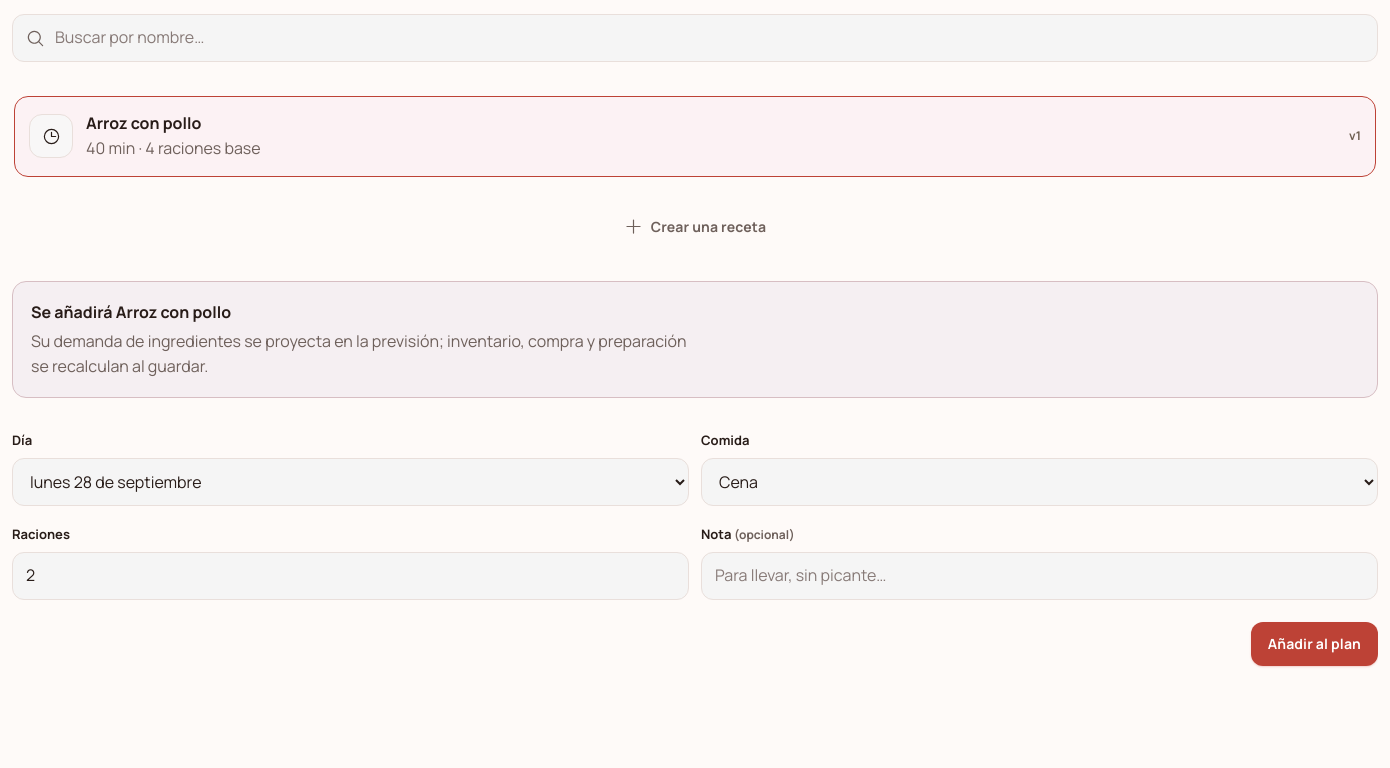
Test case: meal planning accessibility › keeps the inline recipe and ingredient creators labelled
Click the button "Crear una receta".
click(695, 227)  # box [12,204,1378,249]
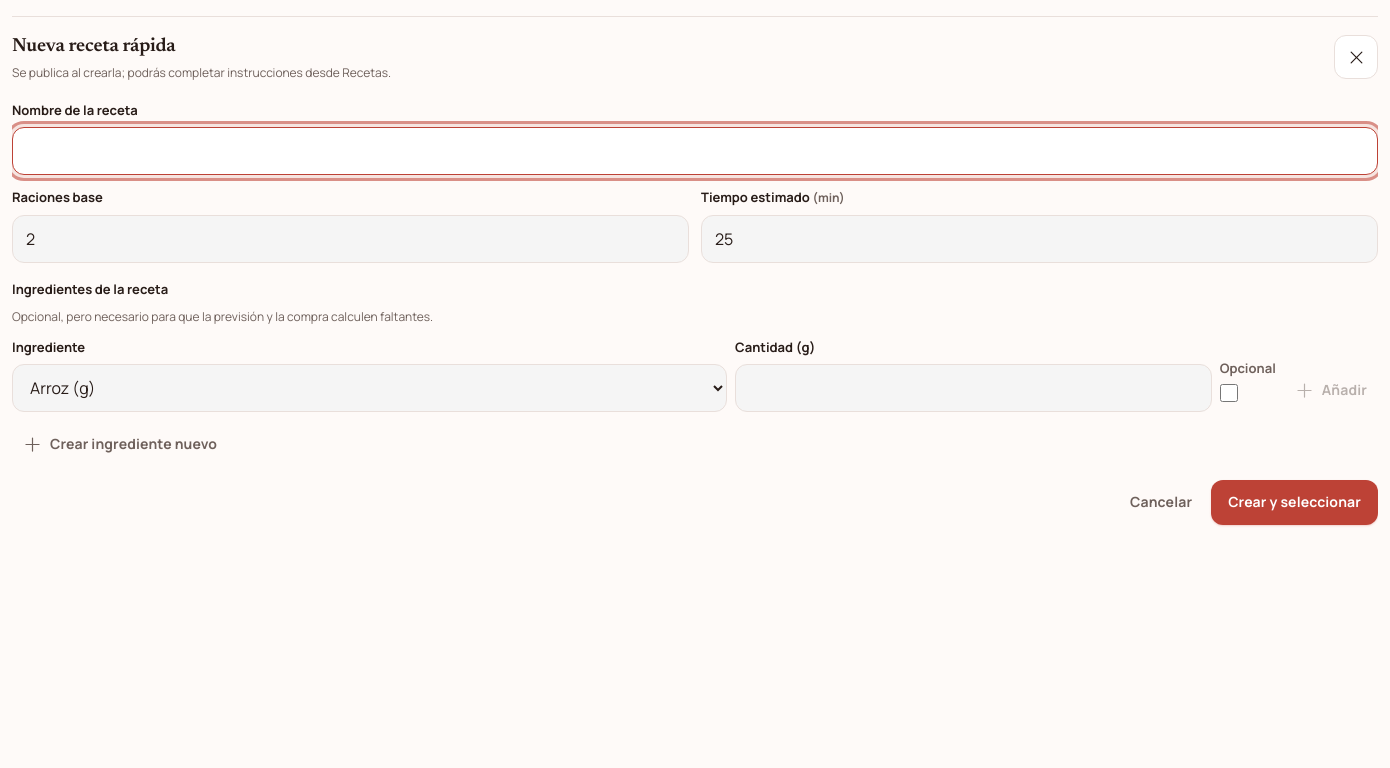
Check: the field labelled "Nombre de la receta" is shown, box [12,127,1378,175]
Check: the number field labelled "Raciones base" is shown, box [12,215,689,263]
Check: the number field labelled "Tiempo estimado (min)" is shown, box [701,215,1378,263]
Click the button "Crear ingrediente nuevo".
click(120, 444)  # box [12,422,228,466]
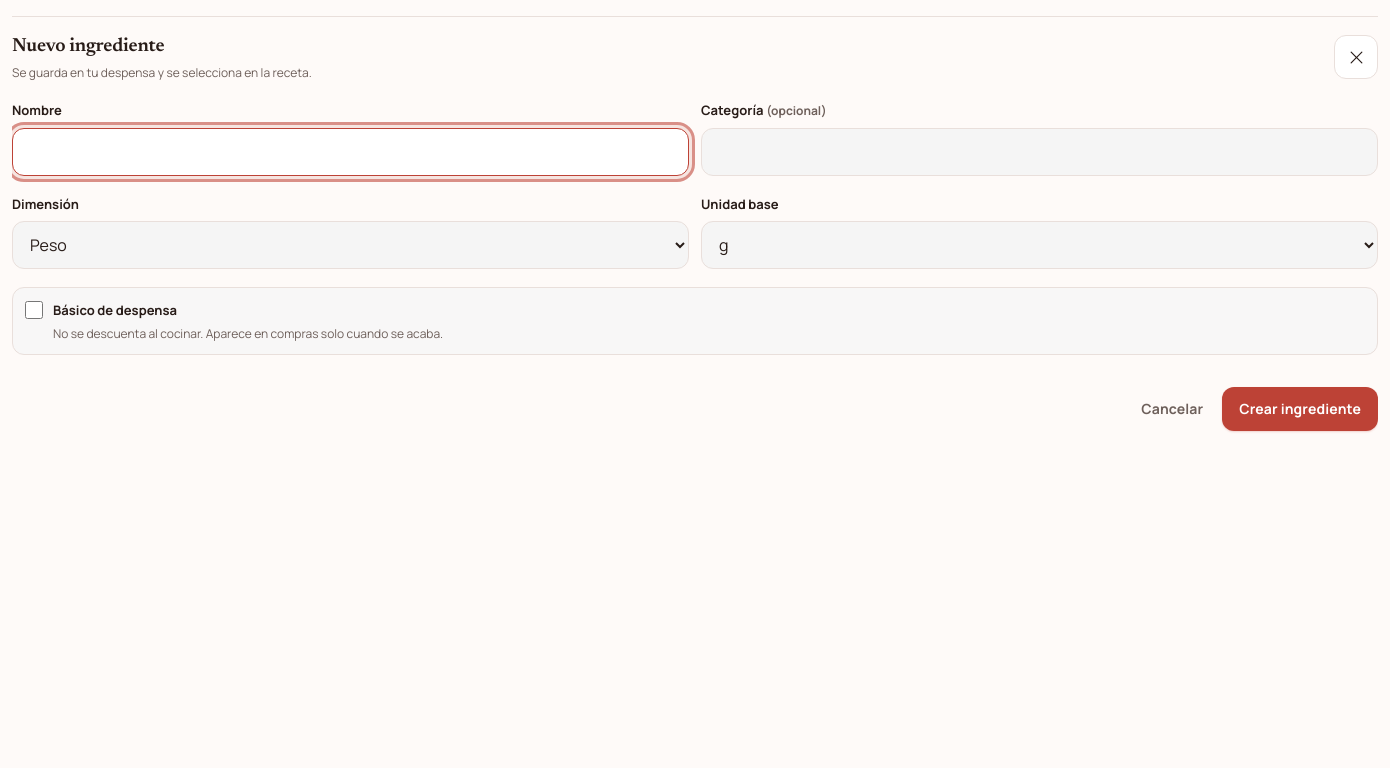
Check: the field labelled "Nombre" is shown, box [12,128,689,176]
Check: the dropdown labelled "Dimensión" is shown, box [12,221,689,269]
Check: the dropdown labelled "Unidad base" is shown, box [701,221,1378,269]
